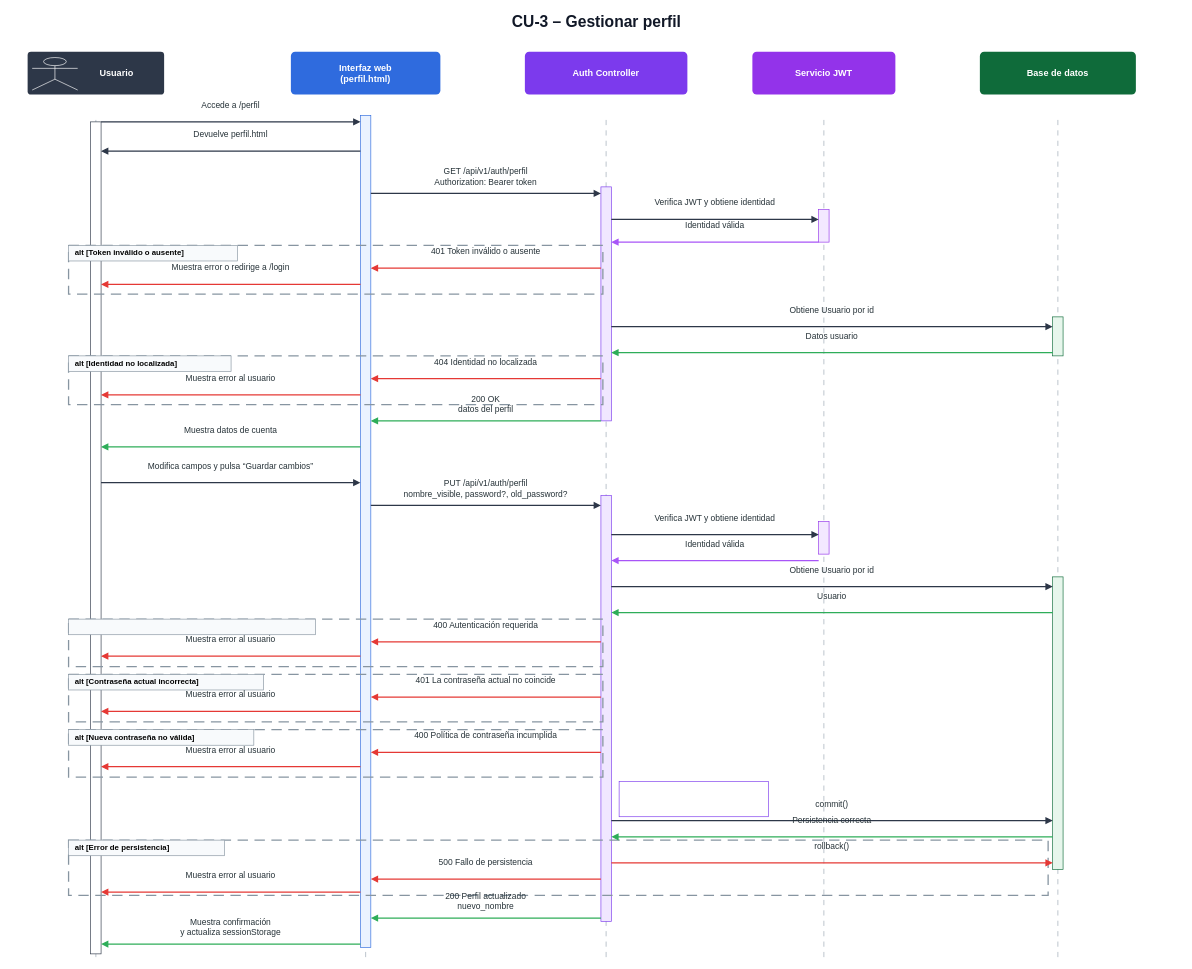
This 1192x969 diagram has some shape labels left out. Here are the shapes that lost their labels. From the top down, the centre of each, then its label:
point (192, 626): alt [Cambio de contraseña sin contraseña actual]
point (693, 799): Aplica cambios permitidos set_password() / hash
